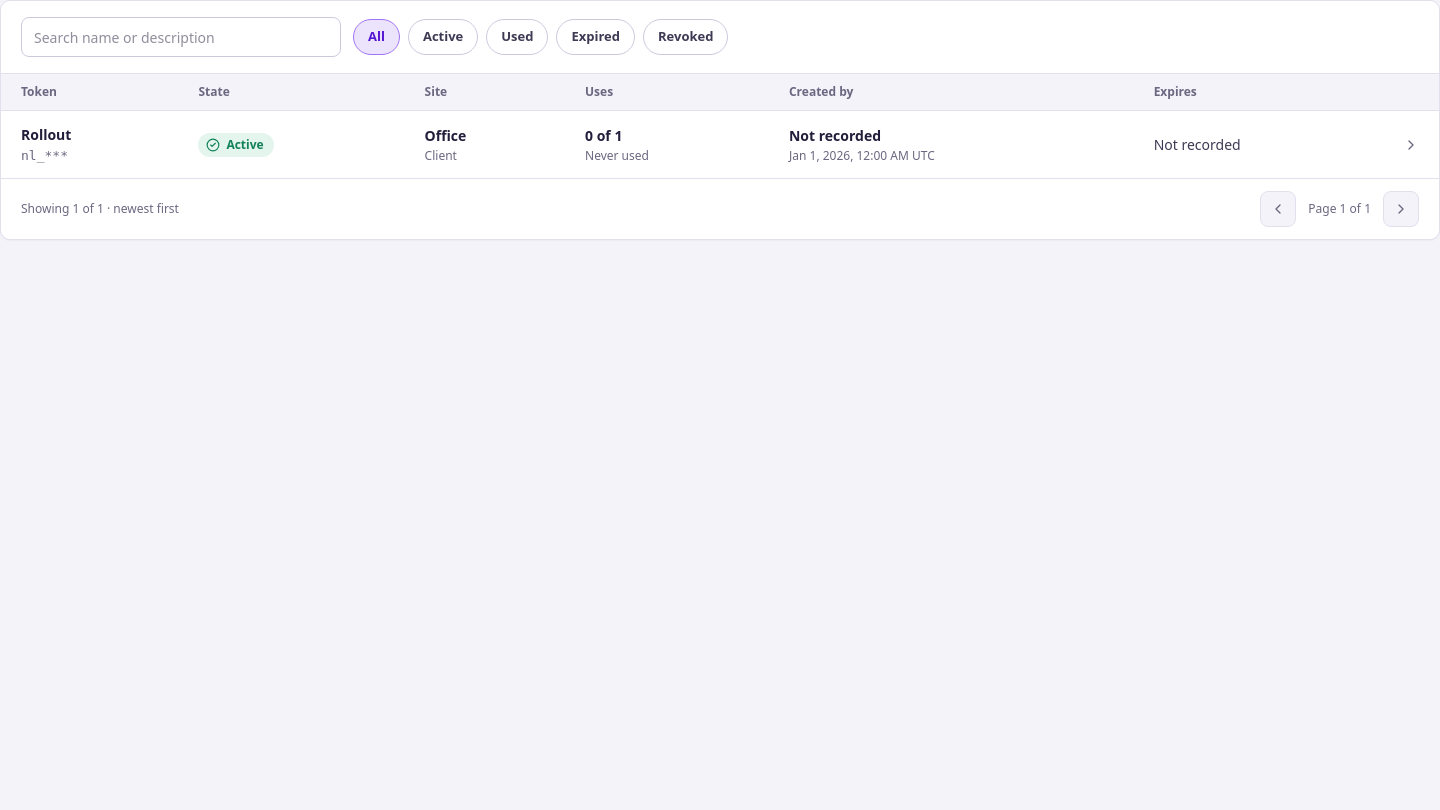
Test case: token revocation closes layered dialogs only after success
Click the row named "Preview Rollout".
click(720, 144)  # box [1,110,1439,178]
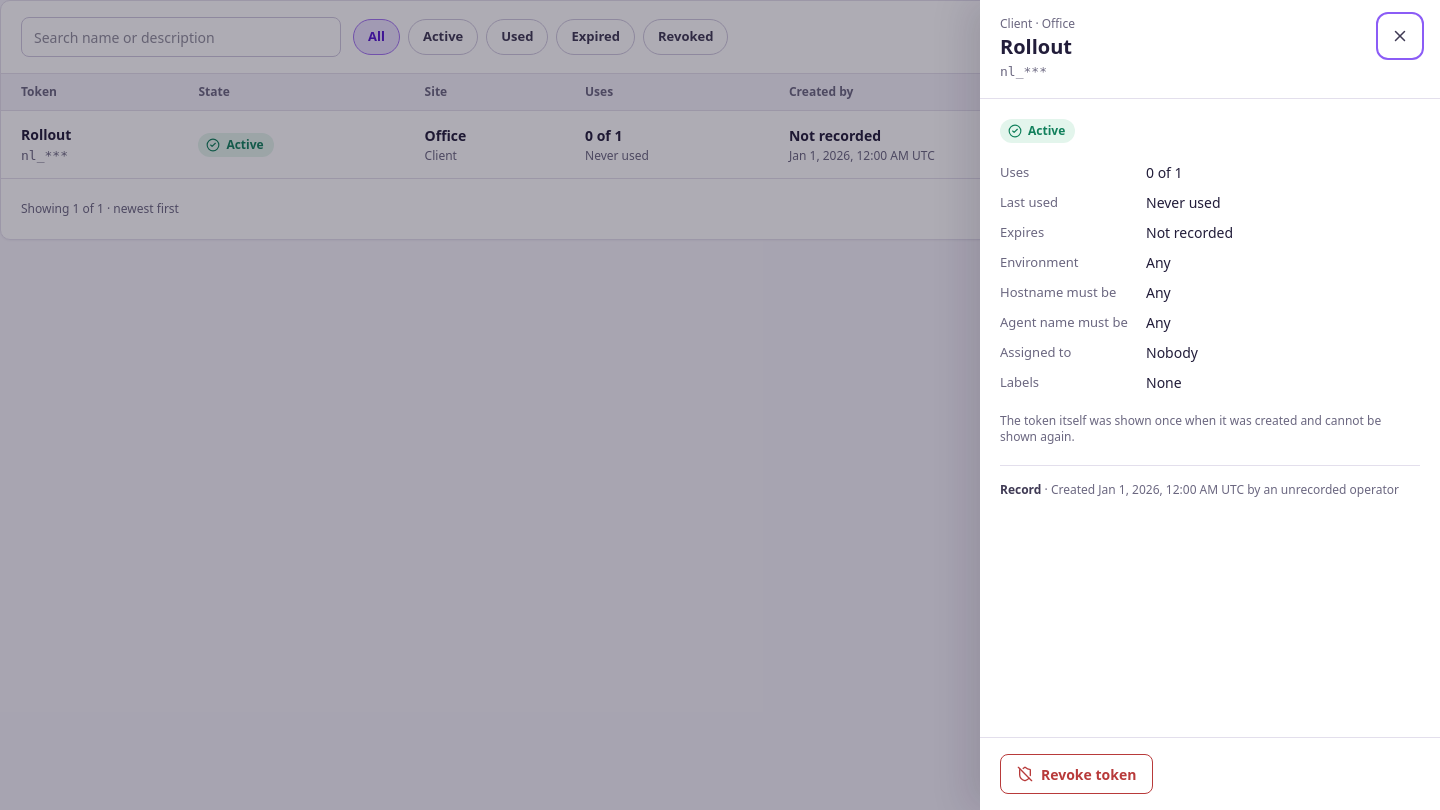
Click the button "Revoke token".
click(1077, 774)  # box [1000,754,1153,794]
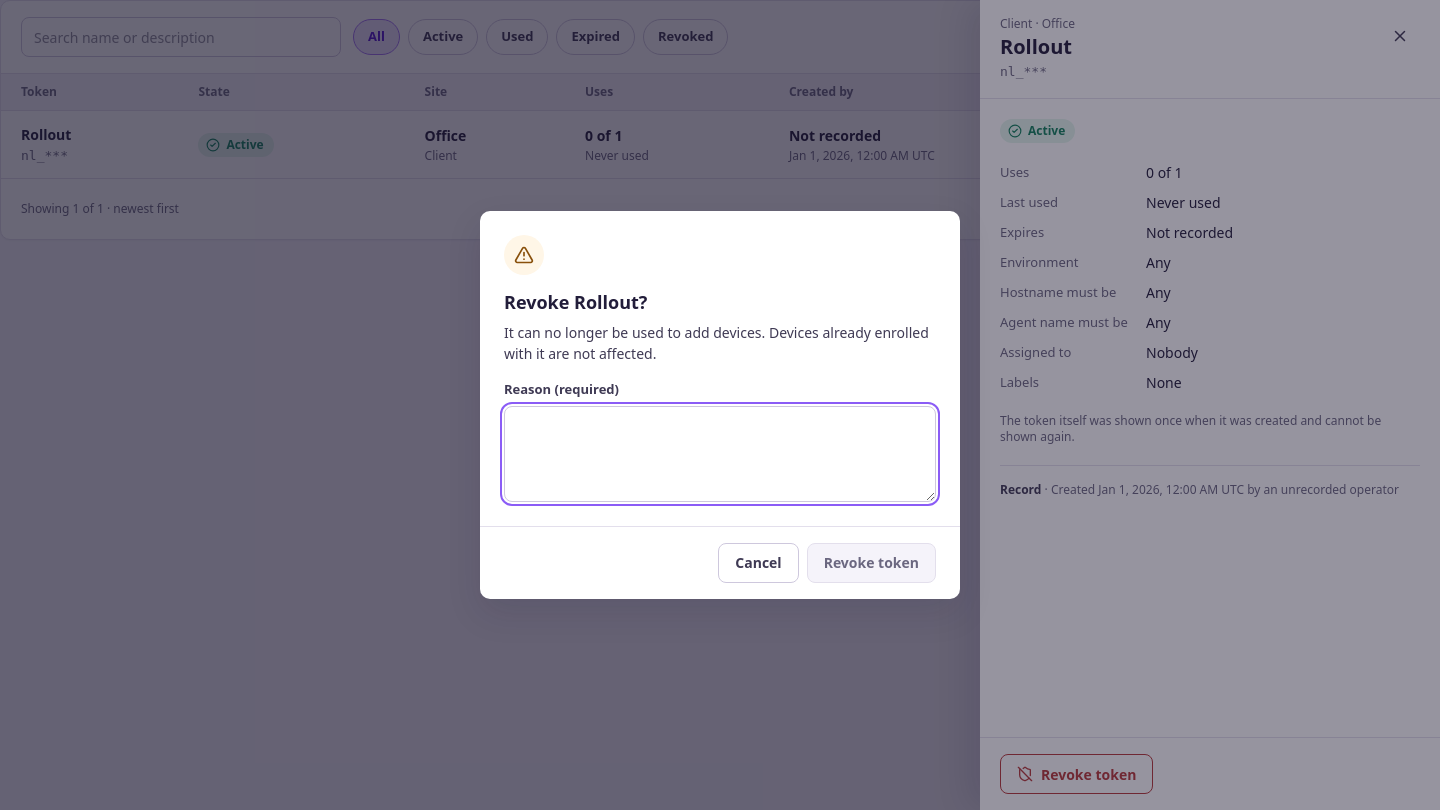
Type "Rollout completed" into the text box.
click(720, 454); type("Rollout completed")  # box [504,406,936,502]
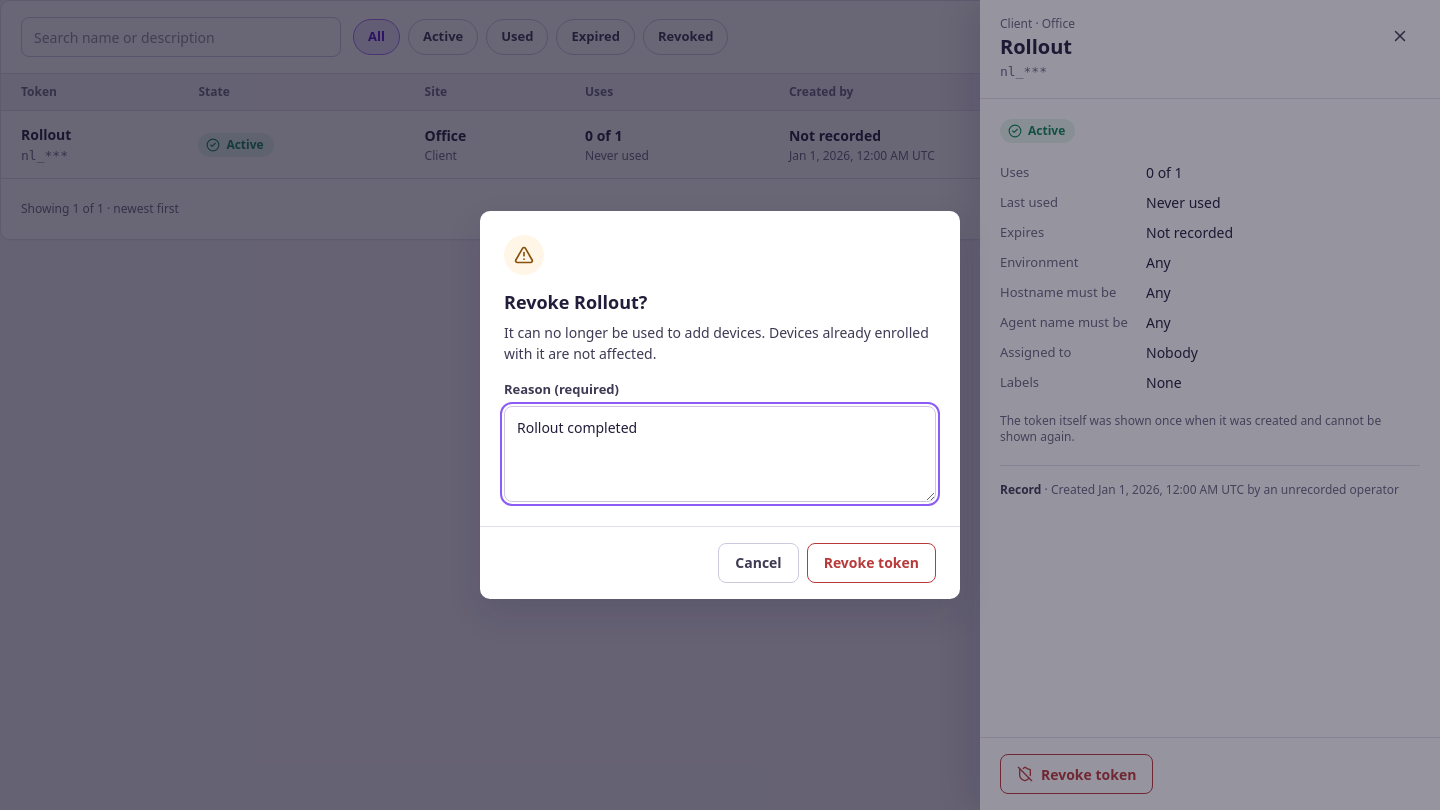
Click the button "Revoke token" below "Reason (required)".
click(871, 563)  # box [807,543,936,583]
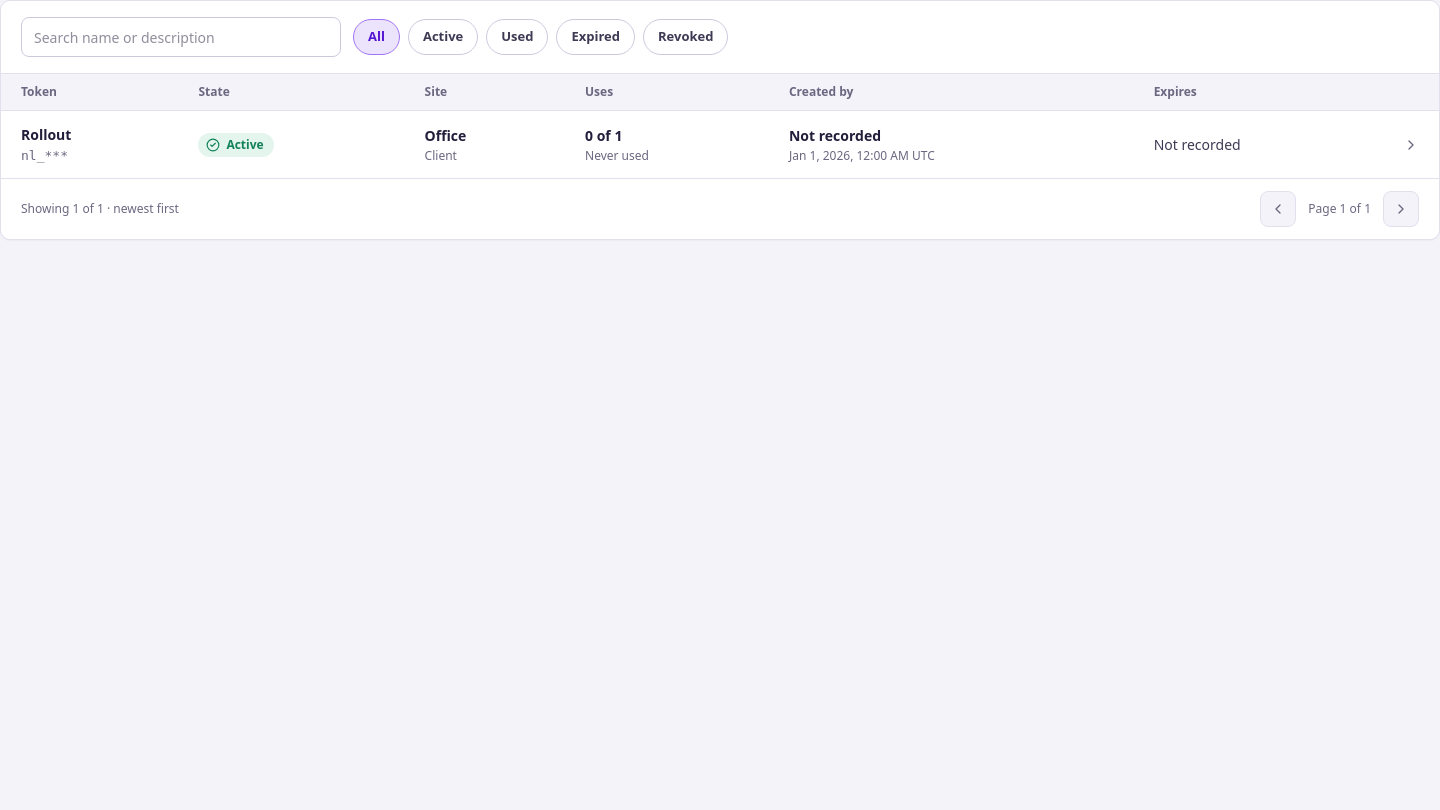
Expected: the dialog is gone
